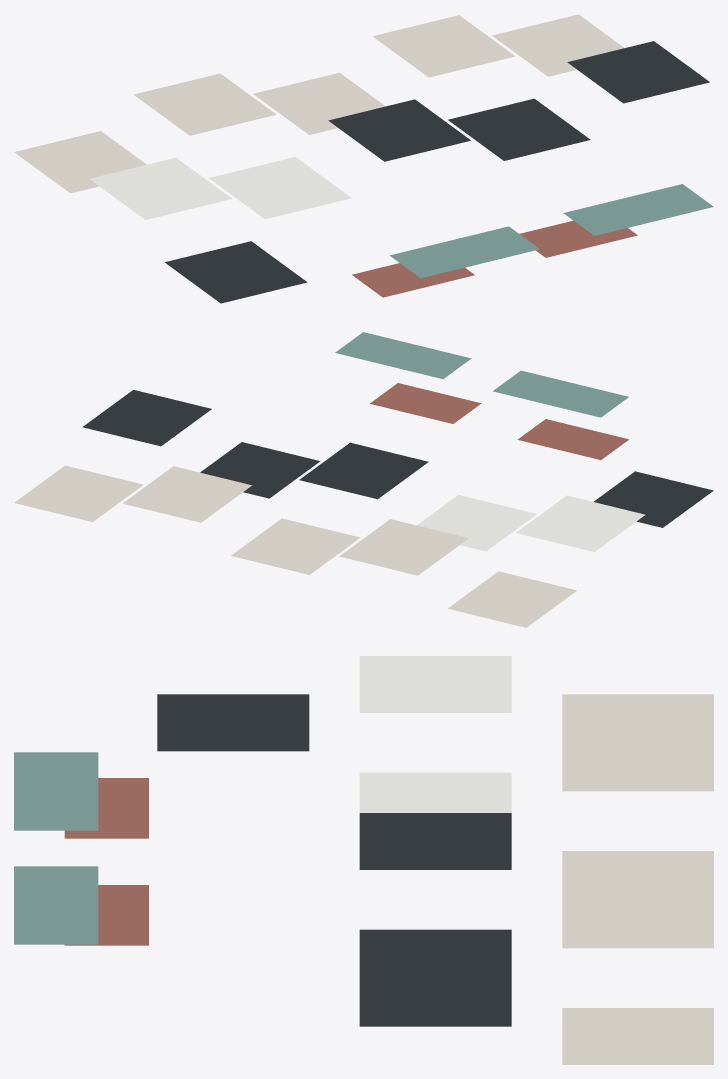
Rendered from structural.obj.
3 renders of one model, top to bottom at view 1: azimuth 30°, elevation 25°; view 2: azimuth 150°, elevation 25°; view 3: azimuth 270°, elevation 25°, orthographic. The views are drawn at different scales.
Parts seen in each view (by area): view 1: trouser_front_L, trouser_back_R, sleeve_L, inner_front, trouser_front_R, trouser_back_L, jacket_front_R, inner_back, jacket_back, jacket_front_L, sleeve_R, parallax_collar_outer (+3 smaller); view 2: jacket_front_R, jacket_back, jacket_front_L, sleeve_R, inner_front, trouser_front_L, sleeve_L, trouser_back_L, trouser_front_R, trouser_back_R, inner_back, parallax_collar_outer (+3 smaller); view 3: trouser_back_L, trouser_back_R, jacket_front_R, sleeve_L, inner_front, trouser_front_L, sleeve_R, parallax_collar_outer, collar_facing_outer, inner_back, trouser_front_R, jacket_front_L (+3 smaller).
Part boxes in pixels (bbox=[...]): trouser_front_L: bbox=[328, 99, 470, 161]; trouser_back_R: bbox=[165, 241, 307, 303]; sleeve_L: bbox=[373, 15, 515, 77]; inner_front: bbox=[89, 157, 231, 219]; trouser_front_R: bbox=[448, 98, 590, 160]; trouser_back_L: bbox=[567, 41, 709, 103]; jacket_front_R: bbox=[134, 73, 276, 135]; inner_back: bbox=[209, 157, 351, 219]; jacket_back: bbox=[253, 72, 385, 134]; jacket_front_L: bbox=[14, 131, 146, 193]; sleeve_R: bbox=[492, 14, 624, 76]; parallax_collar_outer: bbox=[389, 226, 539, 278]; jacket_front_R: bbox=[339, 519, 468, 575]; jacket_back: bbox=[231, 518, 360, 574]; jacket_front_L: bbox=[448, 571, 576, 627]; sleeve_R: bbox=[14, 465, 143, 521]; inner_front: bbox=[516, 495, 645, 551]; trouser_front_L: bbox=[299, 442, 428, 499]; sleeve_L: bbox=[123, 466, 251, 522]; trouser_back_L: bbox=[82, 390, 211, 446]; trouser_front_R: bbox=[200, 442, 320, 498]; trouser_back_R: bbox=[594, 471, 713, 527]; inner_back: bbox=[417, 495, 536, 551]; parallax_collar_outer: bbox=[493, 370, 628, 417]; trouser_back_L: bbox=[359, 969, 511, 1026]; trouser_back_R: bbox=[157, 694, 309, 751]; jacket_front_R: bbox=[562, 734, 713, 791]; sleeve_L: bbox=[562, 891, 713, 948]; inner_front: bbox=[359, 656, 511, 712]; trouser_front_L: bbox=[359, 813, 511, 869]; sleeve_R: bbox=[562, 1008, 713, 1064]; parallax_collar_outer: bbox=[14, 752, 98, 830]; collar_facing_outer: bbox=[14, 866, 98, 944]; inner_back: bbox=[359, 772, 511, 812]; trouser_front_R: bbox=[359, 929, 511, 969]; jacket_front_L: bbox=[562, 694, 713, 734].
Bounding box in the file's own units: 1.04 × 0.05 × 0.83.
